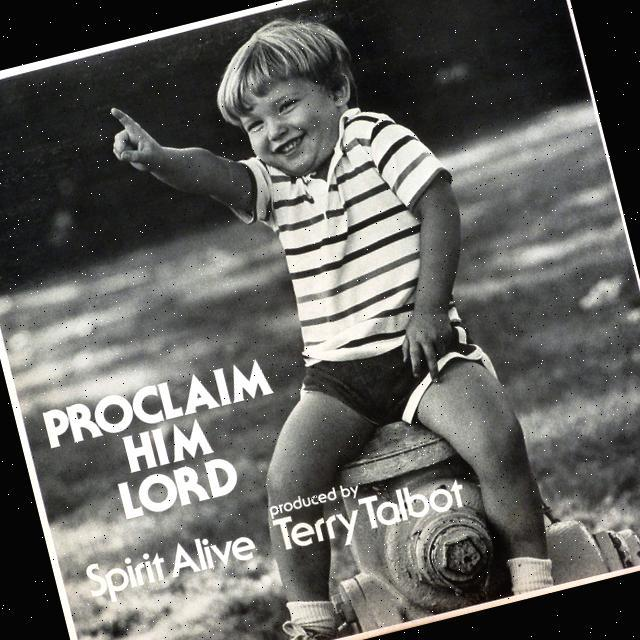fire_hydrant: (293, 362, 640, 638)
